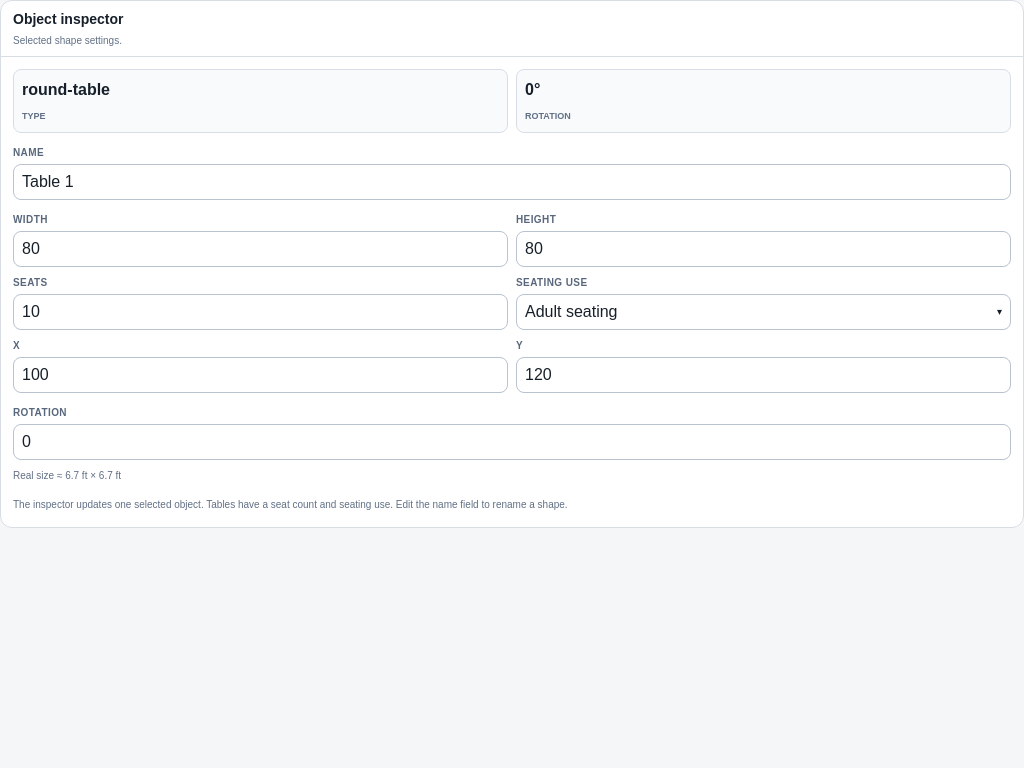
Test: HallMapObjectInspector numeric fields › never writes 0 when the width is cleared
Step 1. Clear the field labelled "Width" → [260, 248], box [13,230,508,266]
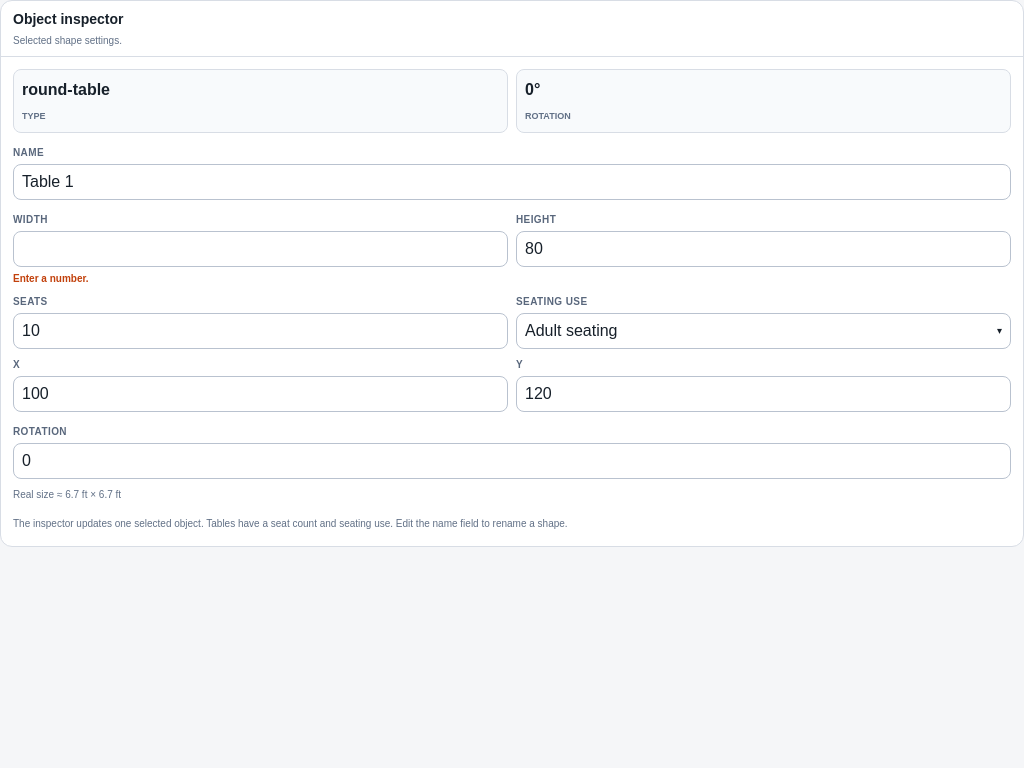
Result: the message reads "Enter a number." at [13,272,89,284]
